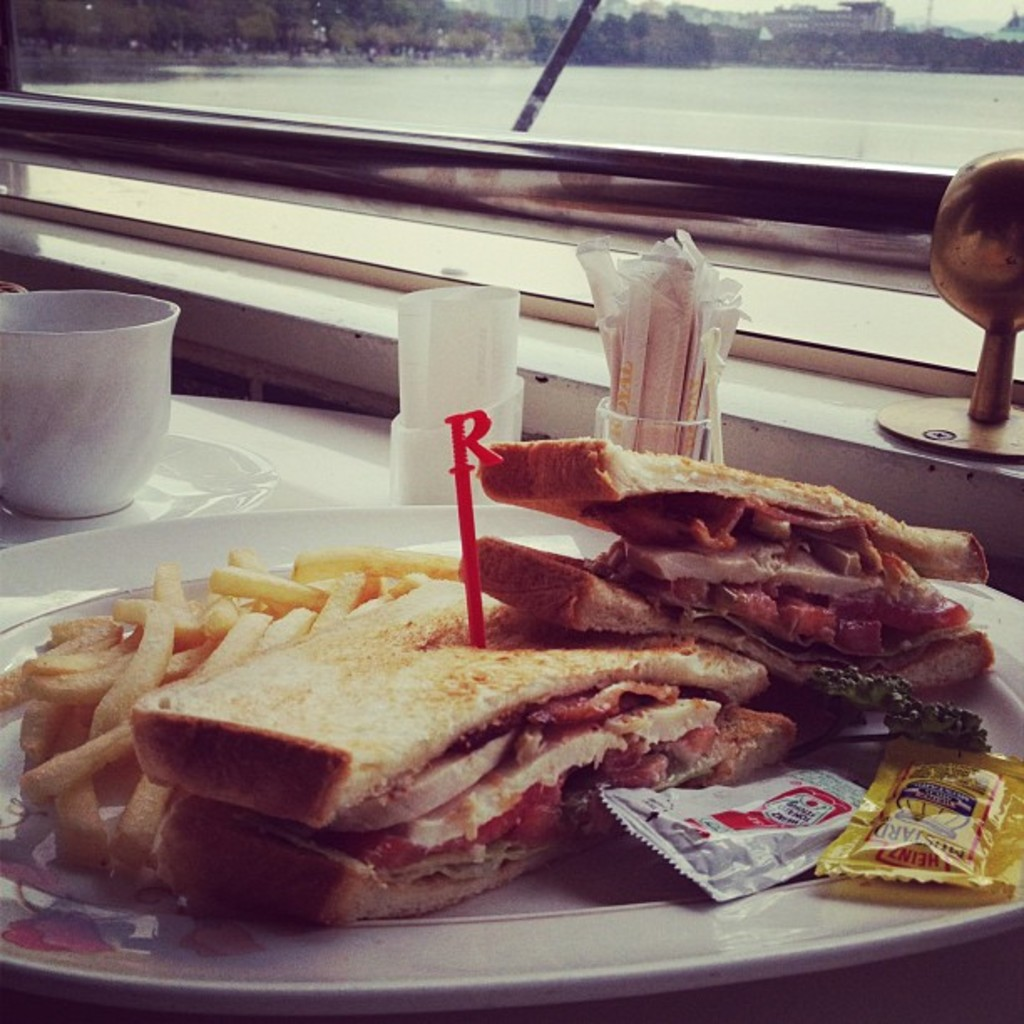sandwich: (122, 576, 803, 930), (467, 427, 1001, 740)
